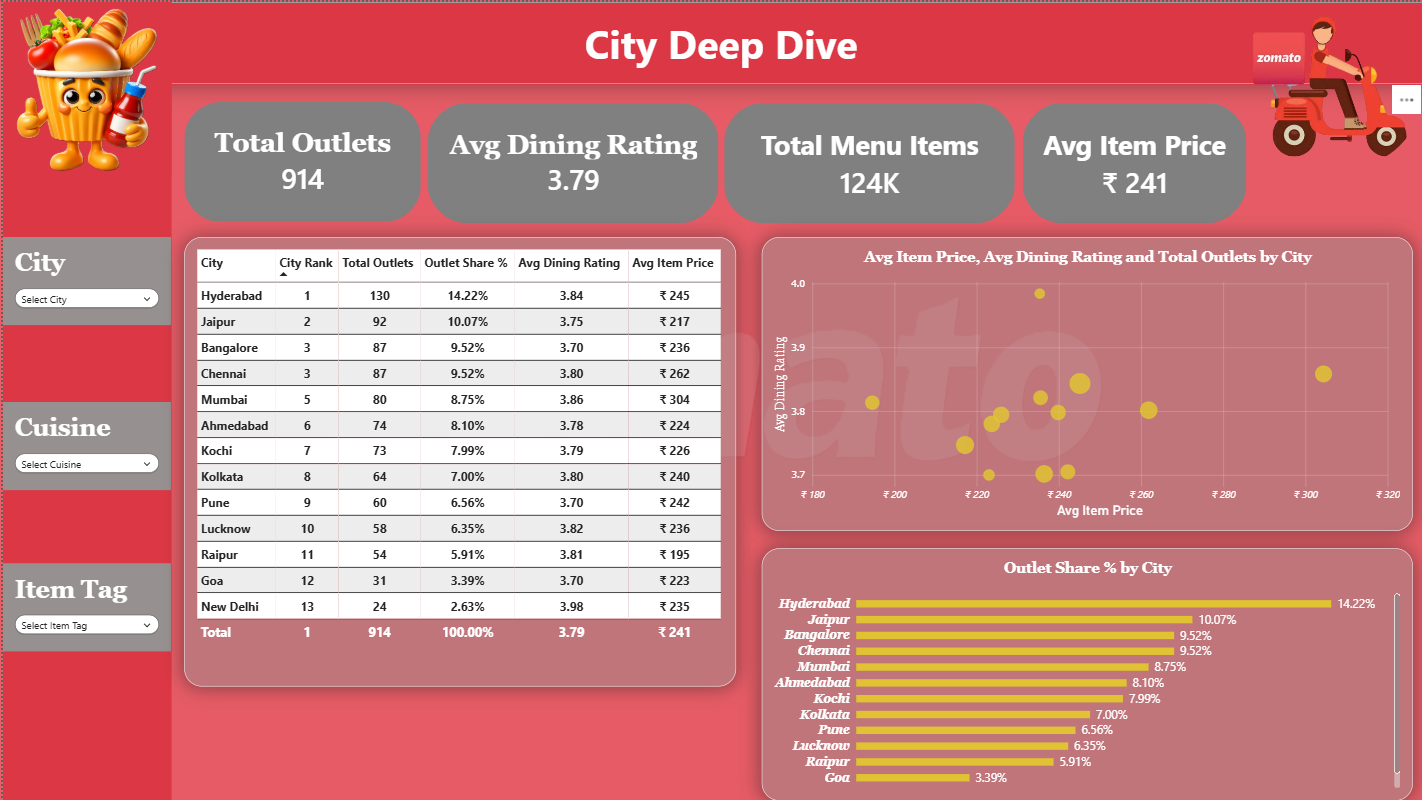

Layout of this report page (visuals, bound fields, positions):
{"tool":"powerbi","page":{"name":"City Deep Dive","canvas":[1920,1080],"ordinal":1},"visuals":[{"type":"textbox","box":[0,0,1920.1,112],"z":0},{"type":"image","box":[1649.1,0,270.5,222.9],"z":1000},{"type":"textbox","box":[0,0,227.6,1080.4],"z":2000},{"type":"image","box":[0,0,227.6,240.7],"z":3000},{"type":"cardVisual","fields":{"Data":["Menu_Items.Total Outlets"]},"box":[245,135,320.3,162.3],"z":4000},{"type":"cardVisual","fields":{"Data":["Menu_Items.Avg Dining Rating"]},"box":[575,136.3,393.9,162.3],"z":5000},{"type":"cardVisual","fields":{"Data":["Menu_Items.Total Menu Items"]},"box":[975,136.3,393.9,162.3],"z":6000},{"type":"cardVisual","fields":{"Data":["Menu_Items.Avg Item Price"]},"box":[1380,136.3,303,162.3],"z":7000},{"type":"listSlicer","fields":{"Values":["dim_City.City"]},"box":[0,318.1,227.2,119],"z":8000},{"type":"listSlicer","fields":{"Values":["dim_Restaurant.Cuisine"]},"box":[0,541,227.2,119],"z":9000},{"type":"listSlicer","fields":{"Values":["Menu_Items.Item Tag"]},"box":[0,759.6,227.2,119],"z":10000},{"type":"tableEx","fields":{"Values":["dim_City.City","Menu_Items.City Rank","Menu_Items.Total Outlets","Menu_Items.Outlet Share %","Menu_Items.Avg Dining Rating","Menu_Items.Avg Item Price"]},"box":[244.4,317.2,746.4,608.3],"z":11000},{"type":"scatterChart","fields":{"Category":["dim_City.City"],"Size":["Menu_Items.Total Outlets"],"X":["Menu_Items.Avg Item Price"],"Y":["Menu_Items.Avg Dining Rating"]},"box":[1026.3,317.2,880.7,397.4],"z":12000},{"type":"clusteredBarChart","fields":{"Category":["dim_City.City"],"Y":["Menu_Items.Outlet Share %"]},"box":[1026.3,738.9,880.7,341.5],"z":13000}]}

Visuals, with their boxes in screenshot pixels (x1, y1, x2, y2), scaled from the page's 1920x1080 canvas onto the 1422x800 screenshot:
textbox: {"left": 0, "top": 0, "right": 1421, "bottom": 83}
image: {"left": 1221, "top": 0, "right": 1421, "bottom": 165}
textbox: {"left": 0, "top": 0, "right": 169, "bottom": 799}
image: {"left": 0, "top": 0, "right": 169, "bottom": 178}
cardVisual - Menu_Items.Total Outlets: {"left": 181, "top": 100, "right": 419, "bottom": 220}
cardVisual - Menu_Items.Avg Dining Rating: {"left": 426, "top": 101, "right": 718, "bottom": 221}
cardVisual - Menu_Items.Total Menu Items: {"left": 722, "top": 101, "right": 1014, "bottom": 221}
cardVisual - Menu_Items.Avg Item Price: {"left": 1022, "top": 101, "right": 1246, "bottom": 221}
listSlicer - dim_City.City: {"left": 0, "top": 236, "right": 168, "bottom": 324}
listSlicer - dim_Restaurant.Cuisine: {"left": 0, "top": 401, "right": 168, "bottom": 489}
listSlicer - Menu_Items.Item Tag: {"left": 0, "top": 563, "right": 168, "bottom": 651}
tableEx - dim_City.City x Menu_Items.City Rank: {"left": 181, "top": 235, "right": 734, "bottom": 686}
scatterChart - dim_City.City x Menu_Items.Total Outlets: {"left": 760, "top": 235, "right": 1412, "bottom": 529}
clusteredBarChart - dim_City.City x Menu_Items.Outlet Share %: {"left": 760, "top": 547, "right": 1412, "bottom": 799}
